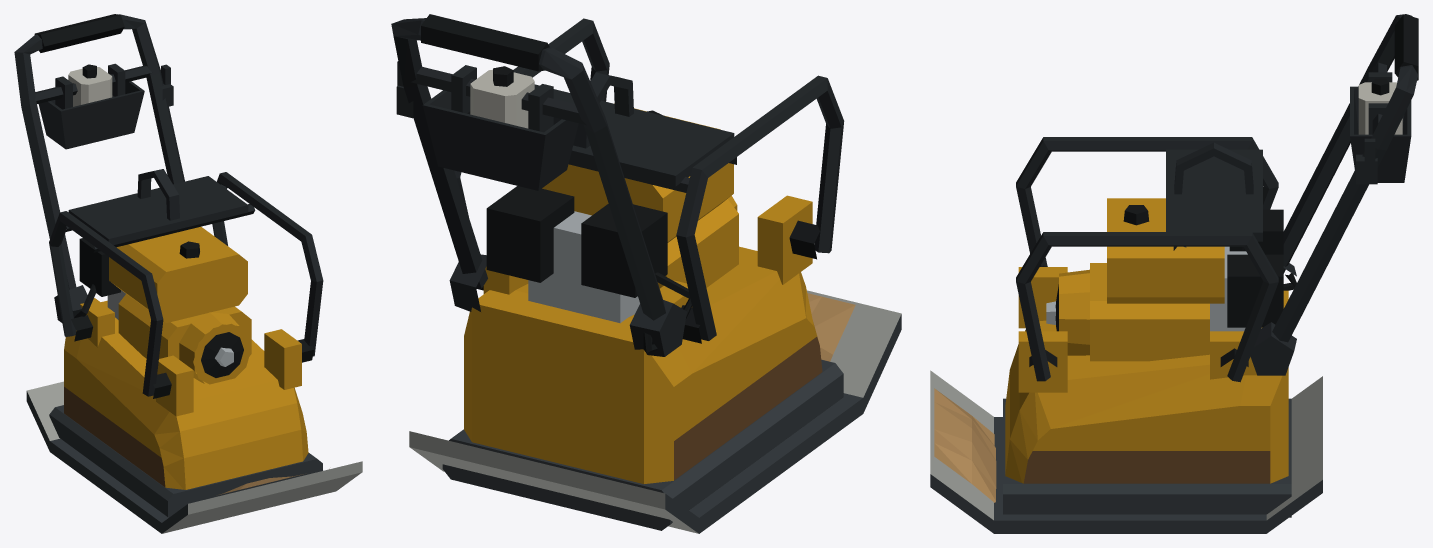
The model's file is compactor-plate-e76b28.glb.
3 renders of one model, left to right at view 1: azimuth 30°, elevation 25°; view 2: azimuth 150°, elevation 25°; view 3: azimuth 270°, elevation 25°, orthographic. The views are drawn at different scales.
Visible parts, largest first — view 1: body, handle-tube, bottle-body; view 2: body, handle-tube, bottle-body, cable-run; view 3: body, handle-tube, bottle-body.
Boxes of the visible parts, x1=… form: body: x1=26, y1=169, x2=362, y2=533; handle-tube: x1=14, y1=14, x2=184, y2=289; bottle-body: x1=68, y1=64, x2=112, y2=106; body: x1=409, y1=18, x2=901, y2=533; handle-tube: x1=391, y1=14, x2=665, y2=320; bottle-body: x1=470, y1=66, x2=534, y2=128; cable-run: x1=643, y1=272, x2=691, y2=353; body: x1=930, y1=137, x2=1322, y2=533; handle-tube: x1=1272, y1=14, x2=1418, y2=342; bottle-body: x1=1358, y1=78, x2=1402, y2=134.
Size of the model in its own units: 0.5 by 0.9986 by 0.995.
